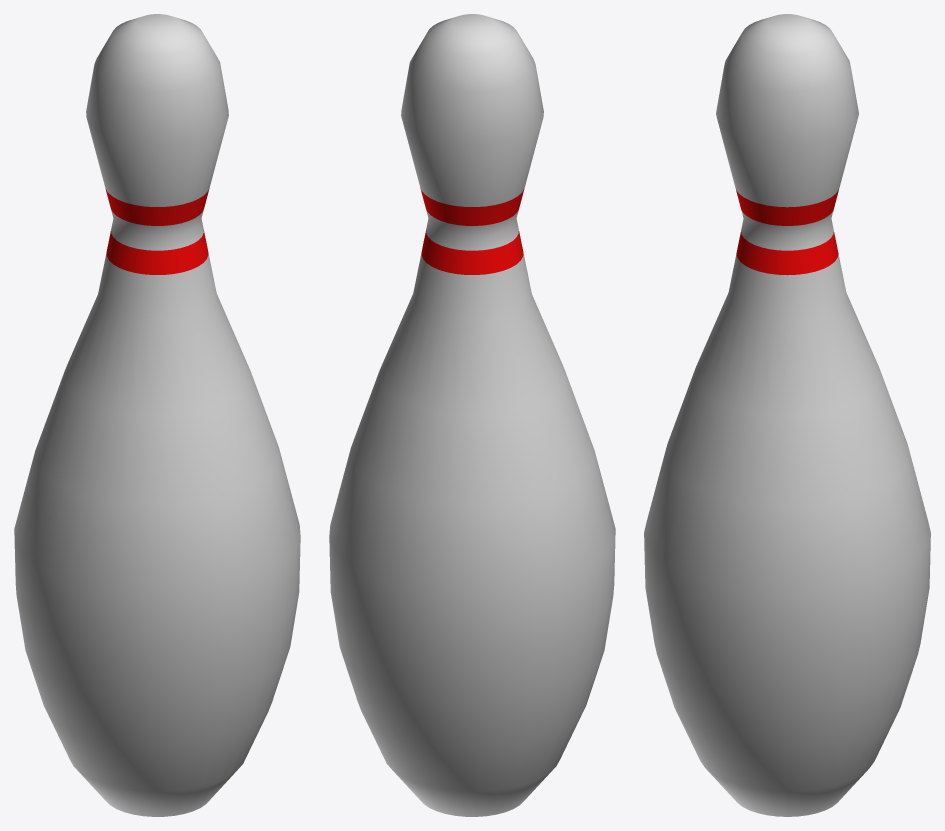
File: Bowling_Pin.fbx
3 renders of one model, left to right at view 1: azimuth 30°, elevation 25°; view 2: azimuth 150°, elevation 25°; view 3: azimuth 270°, elevation 25°, orthographic.
Parts seen in each view (by area): view 1: Bowling_Pin; view 2: Bowling_Pin; view 3: Bowling_Pin.
Boxes of the visible parts, bbox=[...] form: Bowling_Pin: bbox=[14, 14, 300, 816]; Bowling_Pin: bbox=[329, 14, 615, 816]; Bowling_Pin: bbox=[644, 14, 930, 816].
Size of the model in its own units: 33.33 by 98.8 by 33.33.
